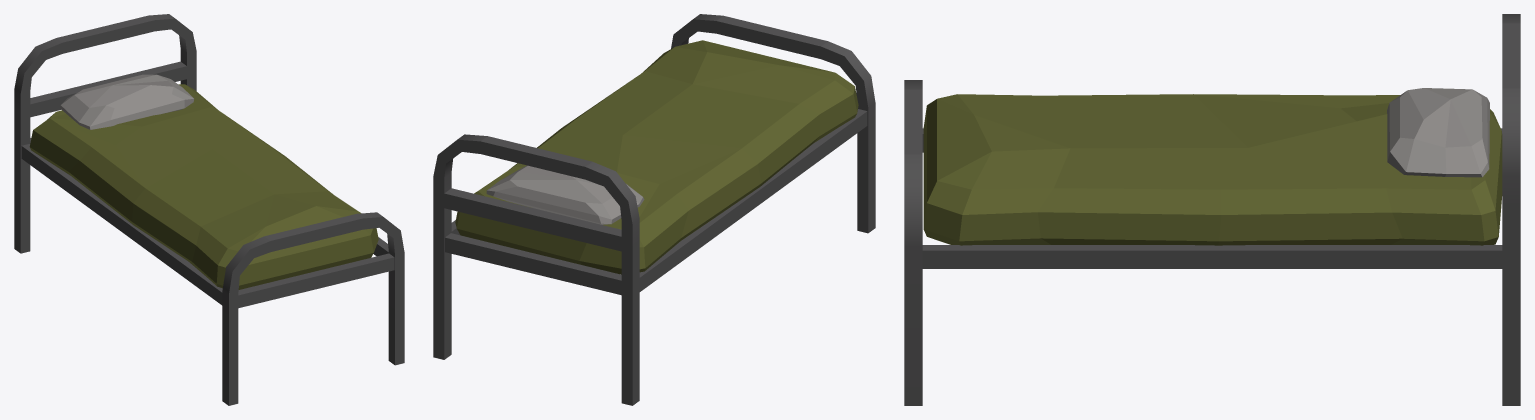
Rendered from SM_Prop_Bed_Military_01.glb.
3 renders of one model, left to right at view 1: azimuth 30°, elevation 25°; view 2: azimuth 150°, elevation 25°; view 3: azimuth 270°, elevation 25°, orthographic. The views are drawn at different scales.
Parts seen in each view (by area): view 1: SM_Prop_Bed_Military_01; view 2: SM_Prop_Bed_Military_01; view 3: SM_Prop_Bed_Military_01.
Boxes of the visible parts, x1=… form: SM_Prop_Bed_Military_01: x1=14, y1=14, x2=404, y2=405; SM_Prop_Bed_Military_01: x1=433, y1=14, x2=875, y2=405; SM_Prop_Bed_Military_01: x1=904, y1=14, x2=1520, y2=405.
Bounding box in the file's own units: 1.06 × 1.16 × 2.24.
1 material, 1 textured.
